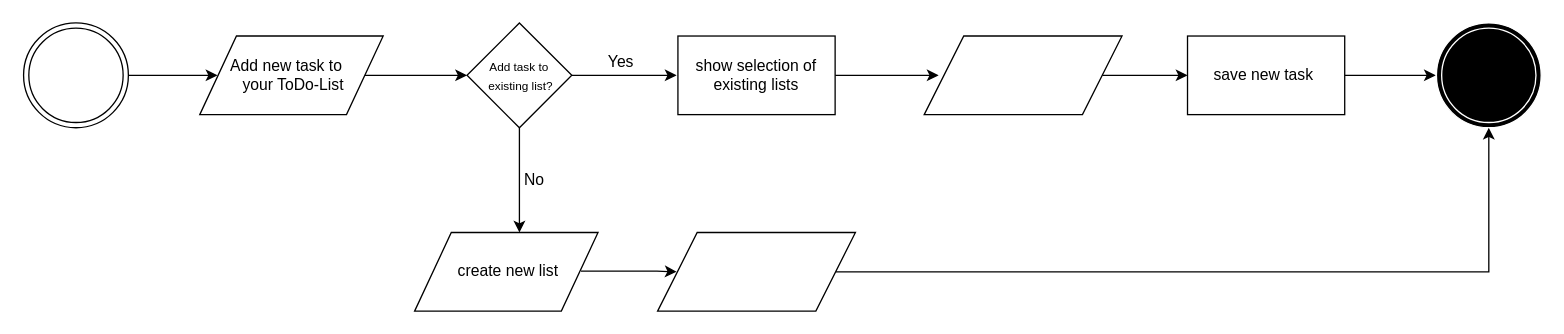
The diagram is 1564 pixels wide and 334 high, and some of its shapes have lost their labels. The shapes that lost their labels are listed below. From the top down, each one's centre as x and y in pixels, then its label:
At pixel 1022 75: "Chose existing list to save new task in it".
At pixel 755 271: "Save new task in created list".
